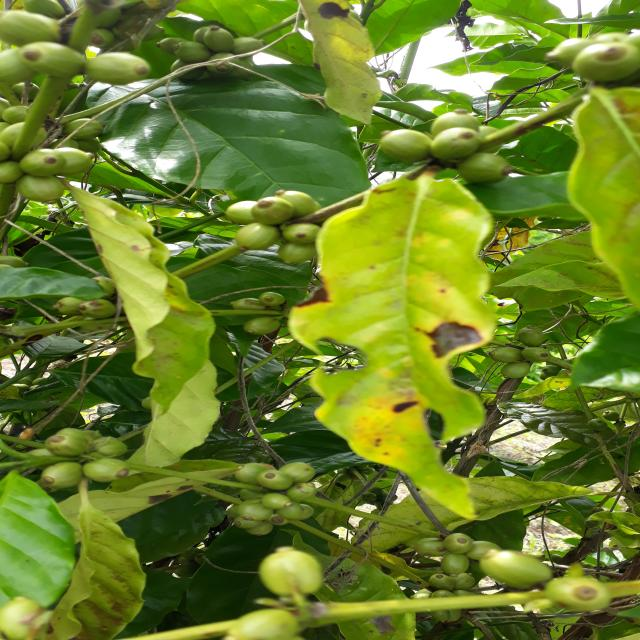Enfermedad-Roya: (291, 176, 499, 521)
